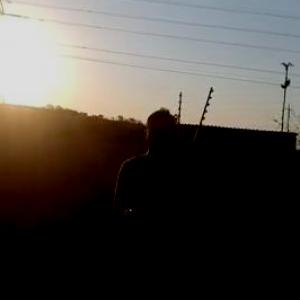follow: (105, 101, 198, 299)
